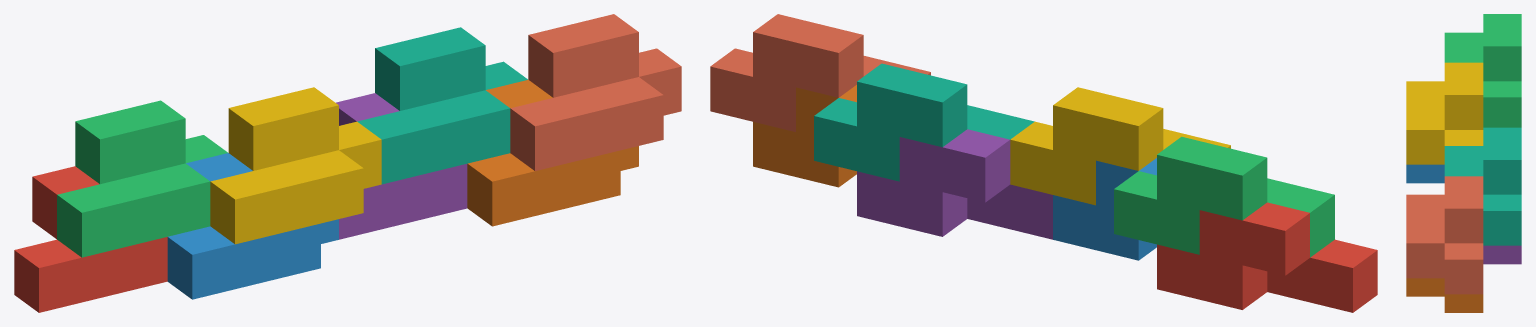
Rendered from tiling.obj.
The picture shows the model from 3 angles, left to right: view 1: azimuth 30°, elevation 25°; view 2: azimuth 150°, elevation 25°; view 3: azimuth 270°, elevation 25°; orthographic projection. The views are drawn at different scales.
Visible parts, largest first — view 1: copy_1_domain_8, copy_1_domain_4, copy_1_domain_3, copy_1_domain_7, copy_1_domain_1, copy_1_domain_6, copy_1_domain_2, copy_1_domain_5; view 2: copy_1_domain_1, copy_1_domain_3, copy_1_domain_5, copy_1_domain_7, copy_1_domain_8, copy_1_domain_4, copy_1_domain_6, copy_1_domain_2; view 3: copy_1_domain_8, copy_1_domain_4, copy_1_domain_7, copy_1_domain_3, copy_1_domain_6, copy_1_domain_2, copy_1_domain_5.
Part boxes in pixels (<box>): copy_1_domain_8: <box>510,14,681,170</box>; copy_1_domain_4: <box>210,87,381,244</box>; copy_1_domain_3: <box>57,100,227,257</box>; copy_1_domain_7: <box>357,27,527,184</box>; copy_1_domain_1: <box>14,166,167,312</box>; copy_1_domain_6: <box>467,79,638,226</box>; copy_1_domain_2: <box>167,153,338,299</box>; copy_1_domain_5: <box>336,93,467,239</box>; copy_1_domain_1: <box>1157,202,1377,312</box>; copy_1_domain_3: <box>1114,136,1334,257</box>; copy_1_domain_5: <box>857,129,1052,239</box>; copy_1_domain_7: <box>814,63,1034,181</box>; copy_1_domain_8: <box>710,14,930,131</box>; copy_1_domain_4: <box>1010,87,1230,205</box>; copy_1_domain_6: <box>753,85,856,187</box>; copy_1_domain_2: <box>1053,158,1156,260</box>; copy_1_domain_8: <box>1406,176,1483,294</box>; copy_1_domain_4: <box>1406,62,1483,164</box>; copy_1_domain_7: <box>1444,127,1521,245</box>; copy_1_domain_3: <box>1444,14,1521,127</box>; copy_1_domain_6: <box>1406,278,1483,312</box>; copy_1_domain_2: <box>1406,164,1444,183</box>; copy_1_domain_5: <box>1483,245,1521,264</box>.
Bounding box in the file's own units: 15 × 3 × 3.
